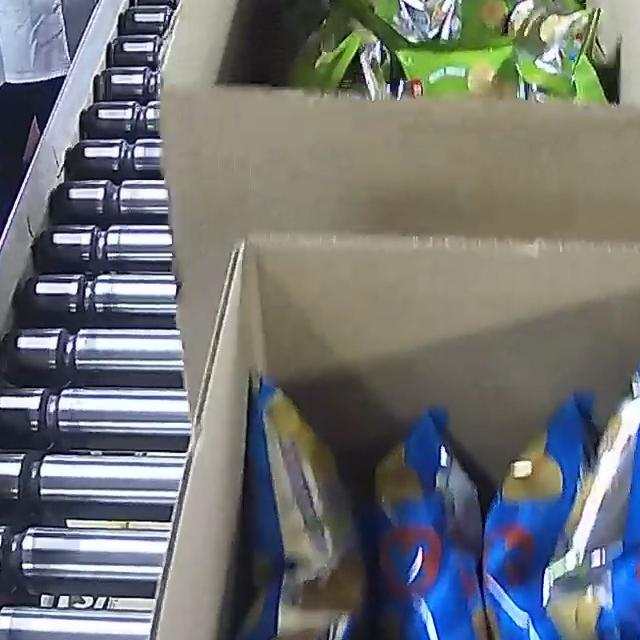paprika: (206, 351, 640, 640)
yogurt: (287, 0, 611, 105)
